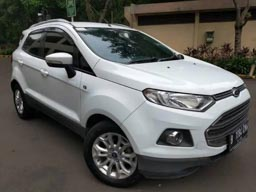plat: (228, 122, 248, 146)
